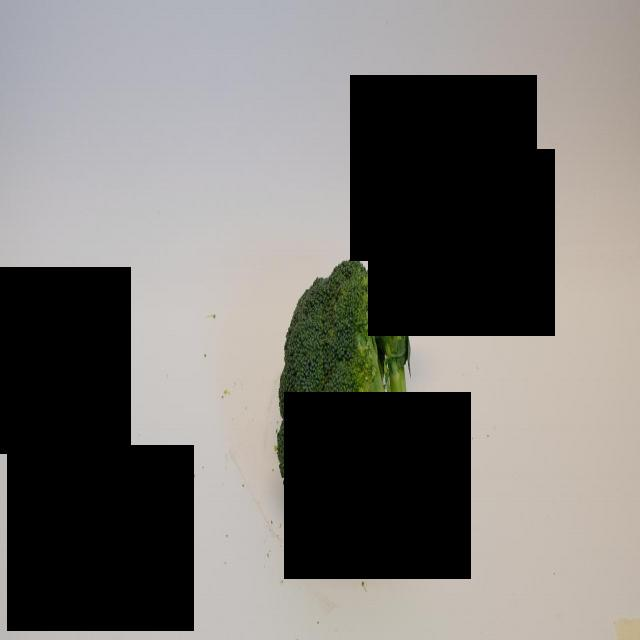broccoli: (274, 252, 440, 546)
